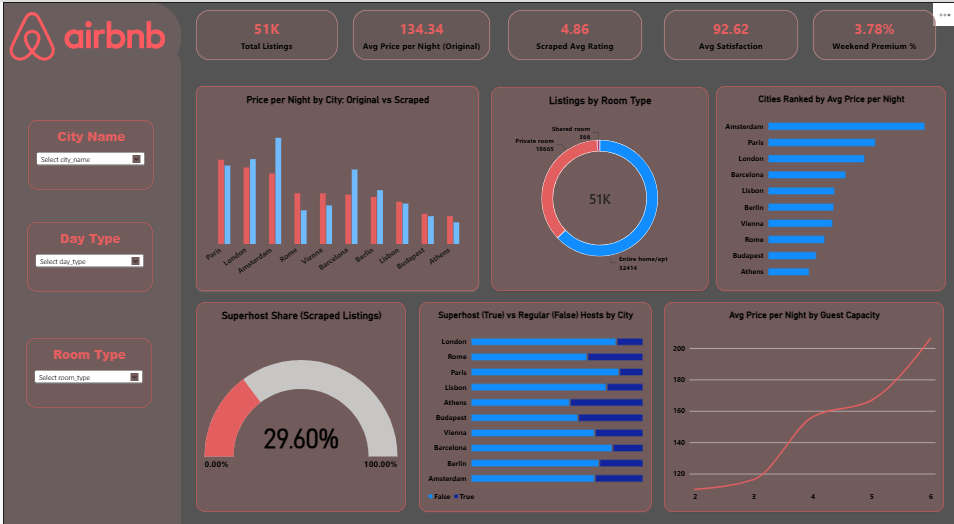

The page's visual inventory and layout, read from the dashboard file:
{"tool":"powerbi","page":{"name":"Airbnb_Dashboard","canvas":[1920,1080],"ordinal":0},"visuals":[{"type":"image","box":[10.1,0,1909.9,1080.9],"z":0},{"type":"card","fields":{"Values":["Fact_Listing_Price.Total Listings"]},"box":[395,15,282.5,100],"z":1000},{"type":"card","fields":{"Values":["Fact_Listing_Price.Avg Price per Night (Original)"]},"box":[710,15,274,100],"z":2000},{"type":"card","fields":{"Values":["Fact_Listing_Price.Avg Satisfaction"]},"box":[1332.5,15,268,100],"z":3000},{"type":"card","fields":{"Values":["Fact_Listing_Price.Weekend Premium %"]},"box":[1630,15,246,100],"z":4000},{"type":"clusteredColumnChart","title":"Price per Night by City: Original vs Scraped","fields":{"Category":["Dim_City.city_name"],"Y":["Fact_Scraped_Listing.Scraped Avg Price","Dim_City.Avg Price per Night 2BR Entire (Original)"]},"box":[395,167.5,565,410],"z":5000},{"type":"donutChart","title":"Listings by Room Type","fields":{"Category":["Dim_RoomType.room_type"],"Y":["Fact_Listing_Price.Total Listings"]},"box":[985,170,435,407.5],"z":6000},{"type":"clusteredBarChart","title":"Cities Ranked by Avg Price per Night","fields":{"Category":["Dim_City.city_name"],"Y":["Fact_Listing_Price.Avg Price per Night (Original)"]},"box":[1435,167.5,460,410],"z":7000},{"type":"gauge","title":"Superhost Share (Scraped Listings)","fields":{"Y":["Fact_Scraped_Listing.Scraped Superhost %"]},"box":[395,600,420,420],"z":7001},{"type":"lineChart","title":"Avg Price per Night by Guest Capacity","fields":{"Category":["Fact_Listing_Price.person_capacity"],"Y":["Fact_Listing_Price.Avg Price per Night (Original)"]},"box":[1332.5,600,560,420],"z":7002},{"type":"hundredPercentStackedBarChart","title":"Superhost (True) vs Regular (False) Hosts by City","fields":{"Category":["Dim_City.city_name"],"Series":["Dim_Host.is_superhost"],"Y":["Fact_Listing_Price.Total Listings"]},"box":[842.5,600,465,420],"z":7003},{"type":"card","fields":{"Values":["Fact_Scraped_Listing.Scraped Avg Rating"]},"box":[1020,15,268,100],"z":7004},{"type":"listSlicer","title":"City Name","fields":{"Values":["Dim_City.city_name"]},"box":[60,235,251.4,138.6],"z":7005},{"type":"listSlicer","title":"Day Type","fields":{"Values":["Dim_DayType.day_type"]},"box":[57.5,440,251.4,138.6],"z":7006},{"type":"listSlicer","title":"Room Type","fields":{"Values":["Dim_RoomType.room_type"]},"box":[55,672.5,251.4,138.6],"z":7007}]}

Visuals, with their boxes in screenshot pixels (x1, y1, x2, y2), scaled from the page's 1920x1080 canvas onto the 954x524 screenshot:
image: box=[5, 0, 953, 523]
card - Fact_Listing_Price.Total Listings: box=[196, 7, 337, 56]
card - Fact_Listing_Price.Avg Price per Night (Original): box=[353, 7, 489, 56]
card - Fact_Listing_Price.Avg Satisfaction: box=[662, 7, 795, 56]
card - Fact_Listing_Price.Weekend Premium %: box=[810, 7, 932, 56]
"Price per Night by City: Original vs Scraped" clusteredColumnChart: box=[196, 81, 477, 280]
"Listings by Room Type" donutChart: box=[489, 82, 706, 280]
"Cities Ranked by Avg Price per Night" clusteredBarChart: box=[713, 81, 942, 280]
"Superhost Share (Scraped Listings)" gauge: box=[196, 291, 405, 495]
"Avg Price per Night by Guest Capacity" lineChart: box=[662, 291, 940, 495]
"Superhost (True) vs Regular (False) Hosts by City" hundredPercentStackedBarChart: box=[419, 291, 650, 495]
card - Fact_Scraped_Listing.Scraped Avg Rating: box=[507, 7, 640, 56]
"City Name" listSlicer: box=[30, 114, 155, 181]
"Day Type" listSlicer: box=[29, 213, 153, 281]
"Room Type" listSlicer: box=[27, 326, 152, 394]
